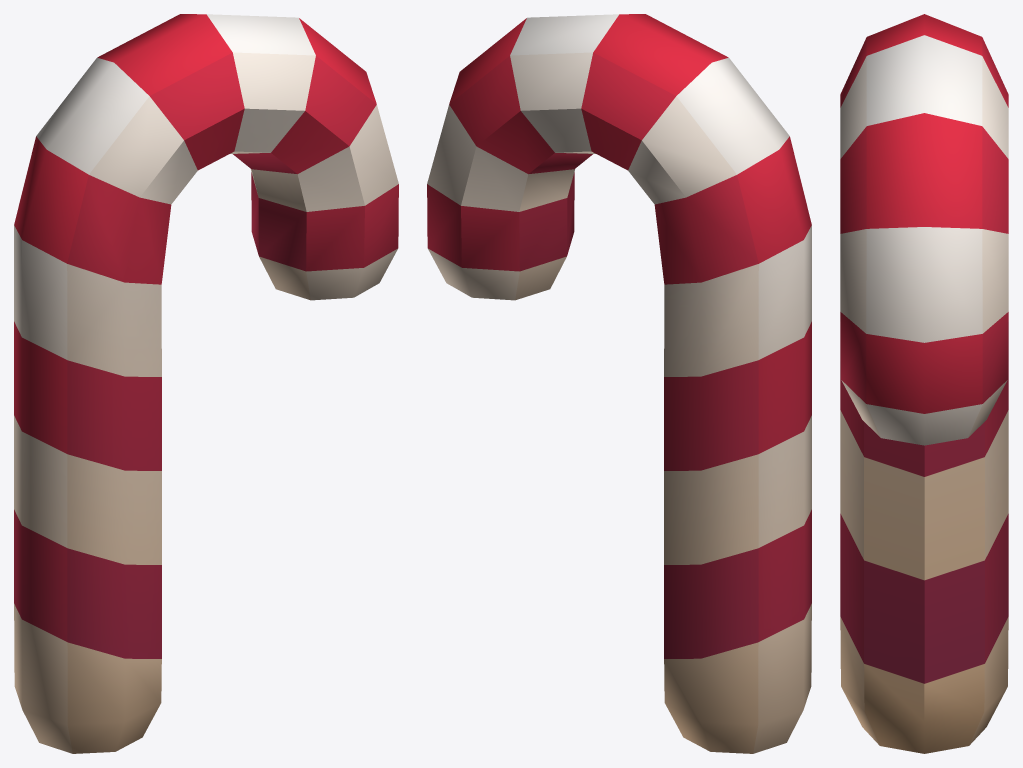
Rendered from Candycane.obj.
The picture shows the model from 3 angles, left to right: view 1: azimuth 30°, elevation 25°; view 2: azimuth 150°, elevation 25°; view 3: azimuth 270°, elevation 25°; orthographic projection. The views are drawn at different scales.
Visible parts, largest first — view 1: Candycane; view 2: Candycane; view 3: Candycane.
Boxes of the visible parts, x1,y1,x2,y2 form: Candycane: (14,14,398,753); Candycane: (427,14,811,753); Candycane: (840,14,1008,753).
Size of the model in its own units: 0.3199 by 0.5843 by 0.1149.
Materials: 1 (1 with a texture image).
